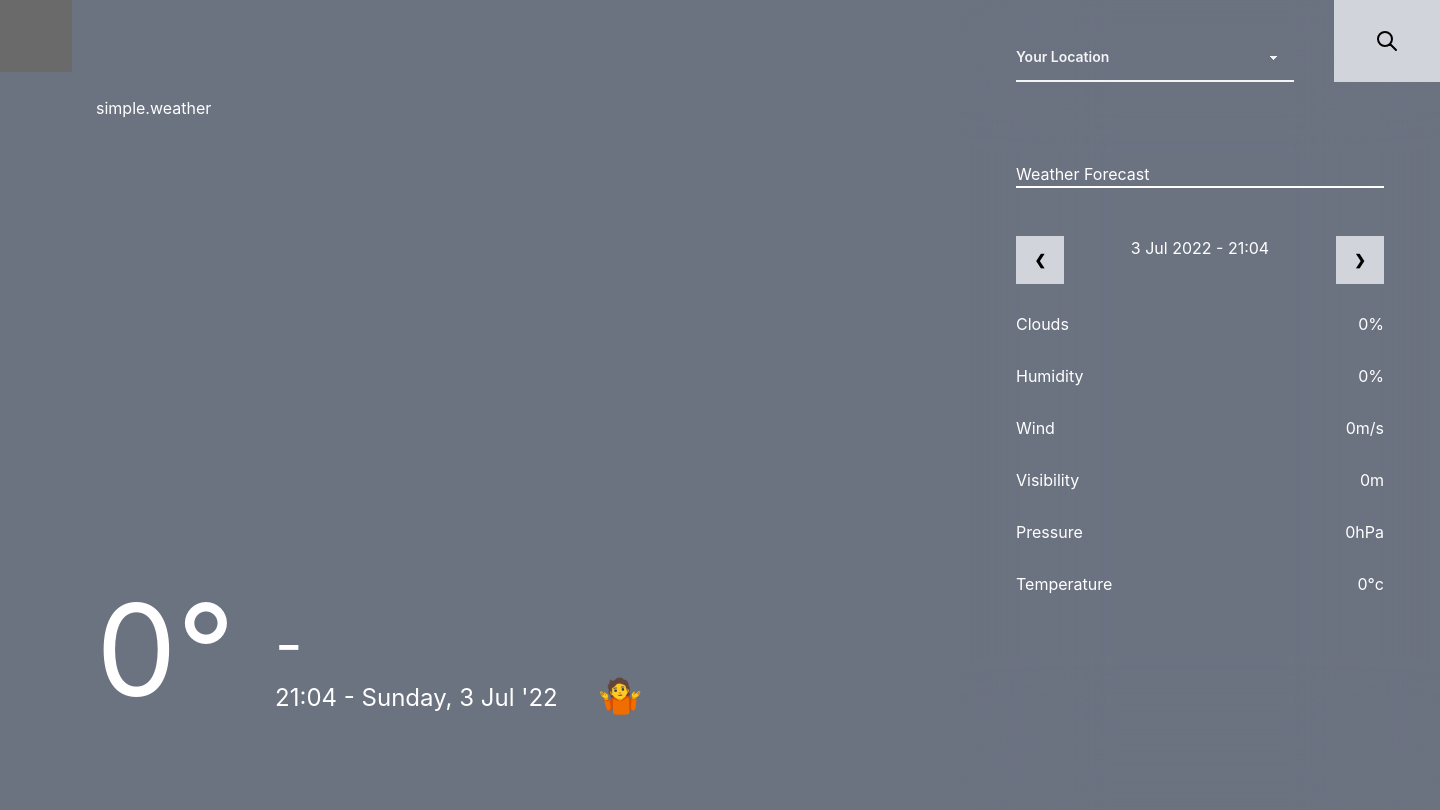
Scenario: Home component test › should show the proper theme based on current weather forecast
Click the button with test id "get-forecast-btn" at [1387, 41], box [1334,0,1439,82]
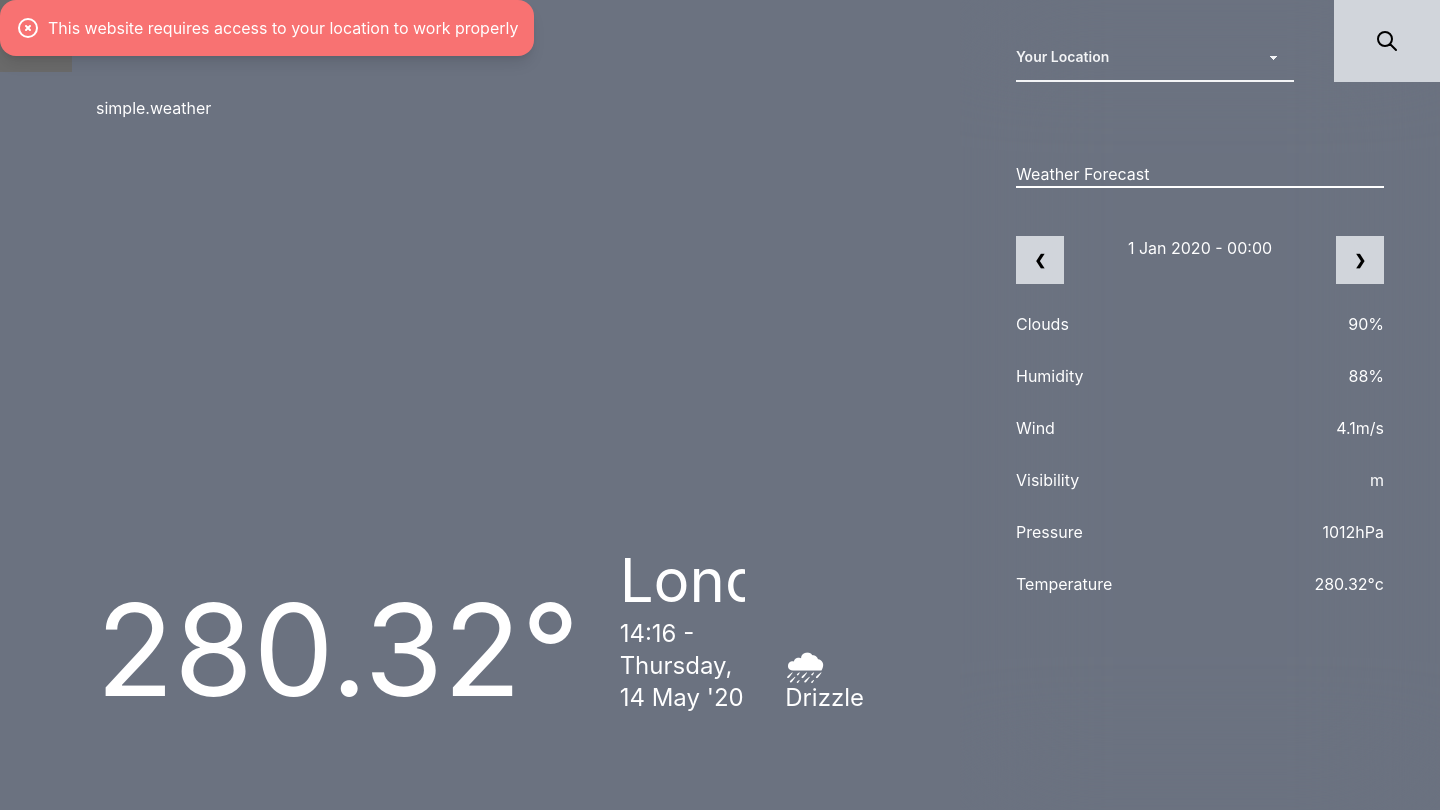
Click the button with test id "get-forecast-btn" at [1387, 41], box [1334,0,1439,82]
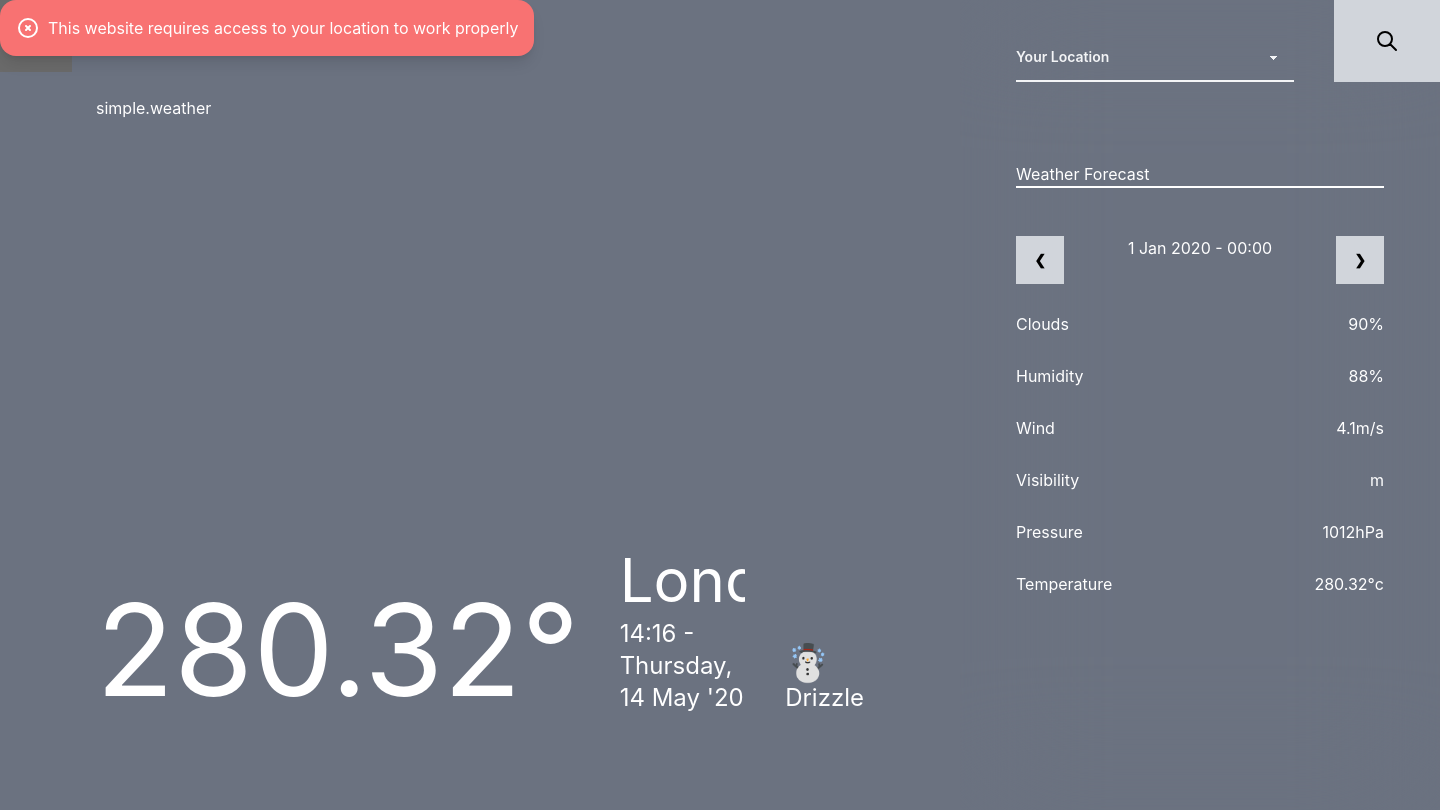
expect the text "☃️" is shown: met, box [785,640,830,684]
Click the button with test id "get-forecast-btn" at [1387, 41], box [1334,0,1439,82]
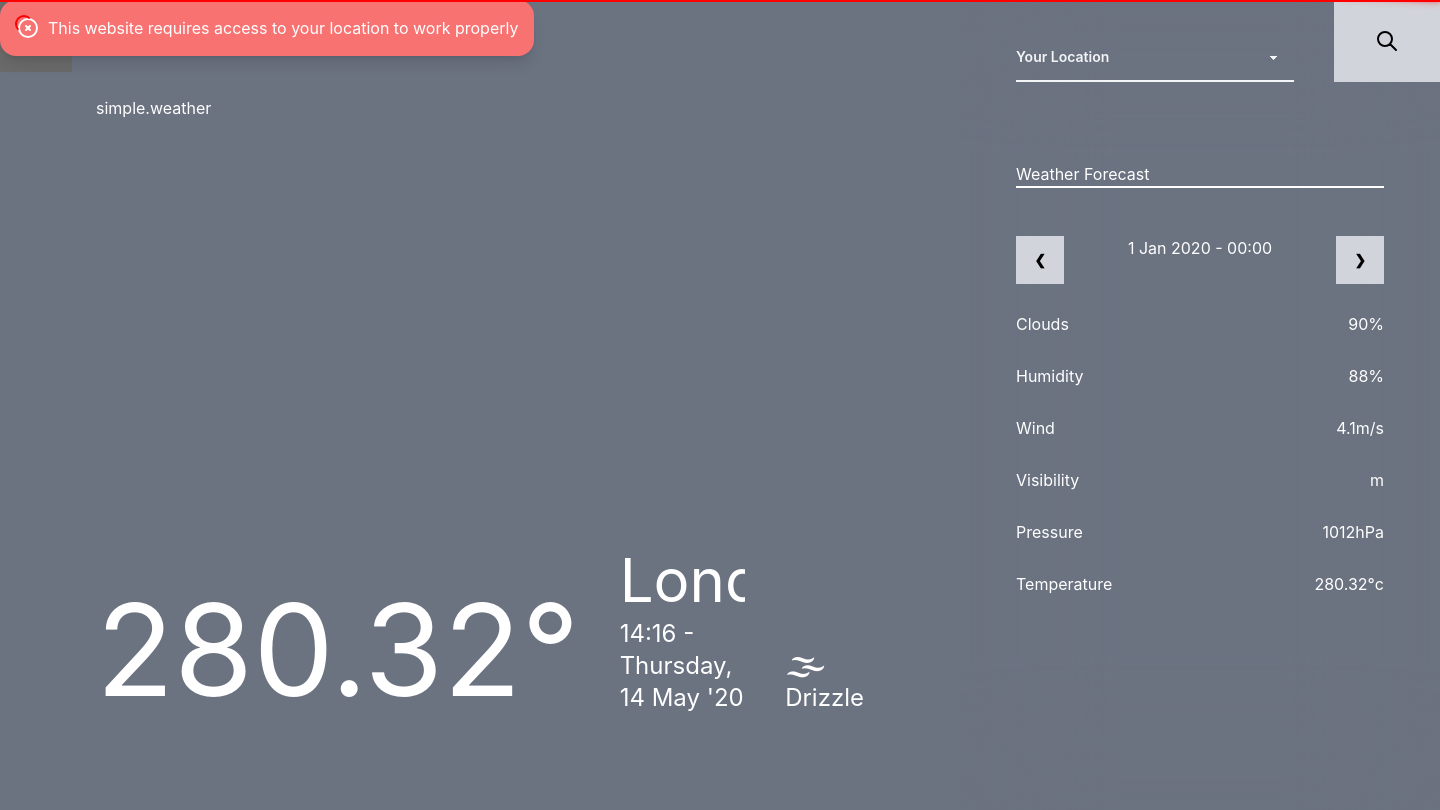
Click the button with test id "get-forecast-btn" at [1387, 41], box [1334,0,1439,82]
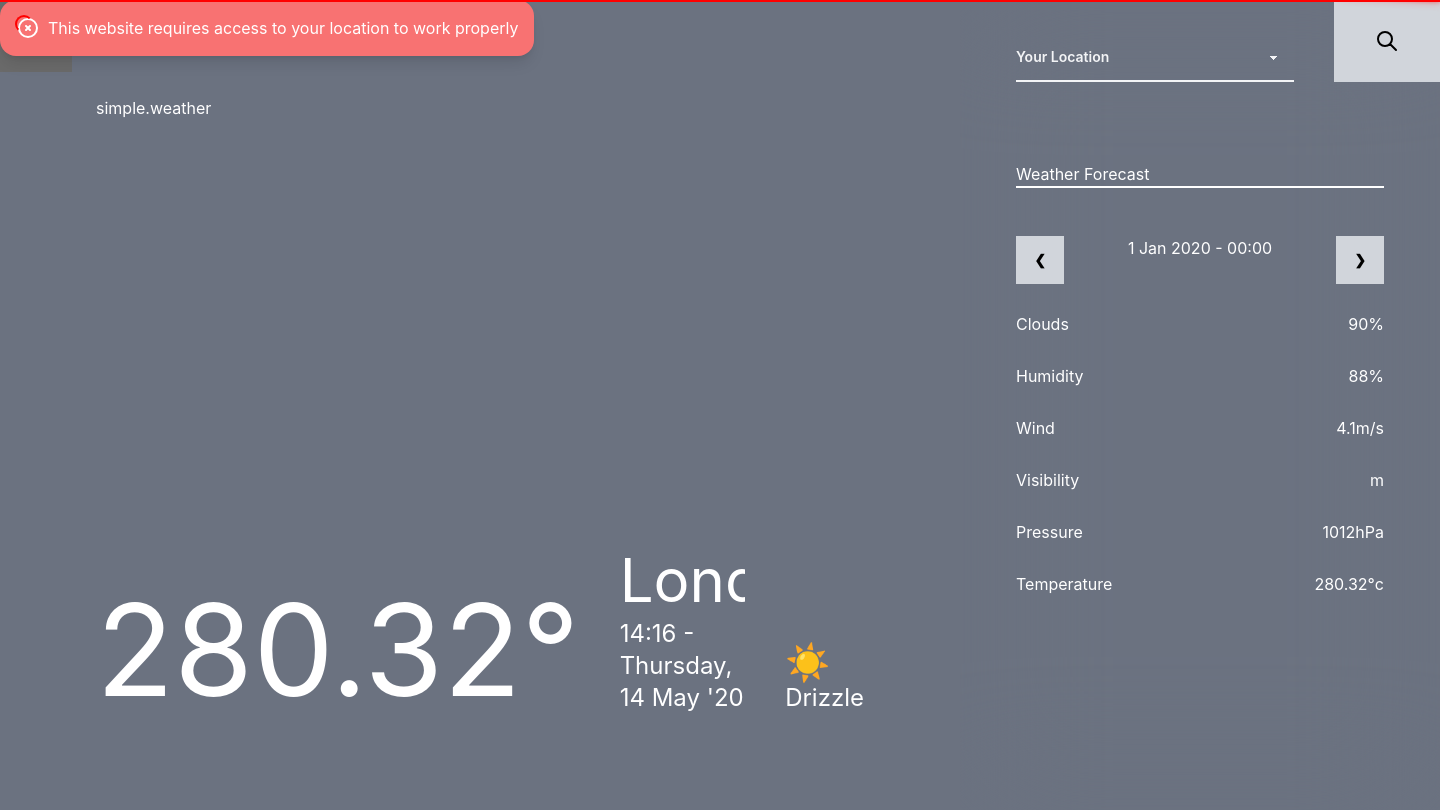
expect the text "☀️" is shown: met, box [785,640,830,684]
Click the button with test id "get-forecast-btn" at [1387, 41], box [1334,0,1439,82]
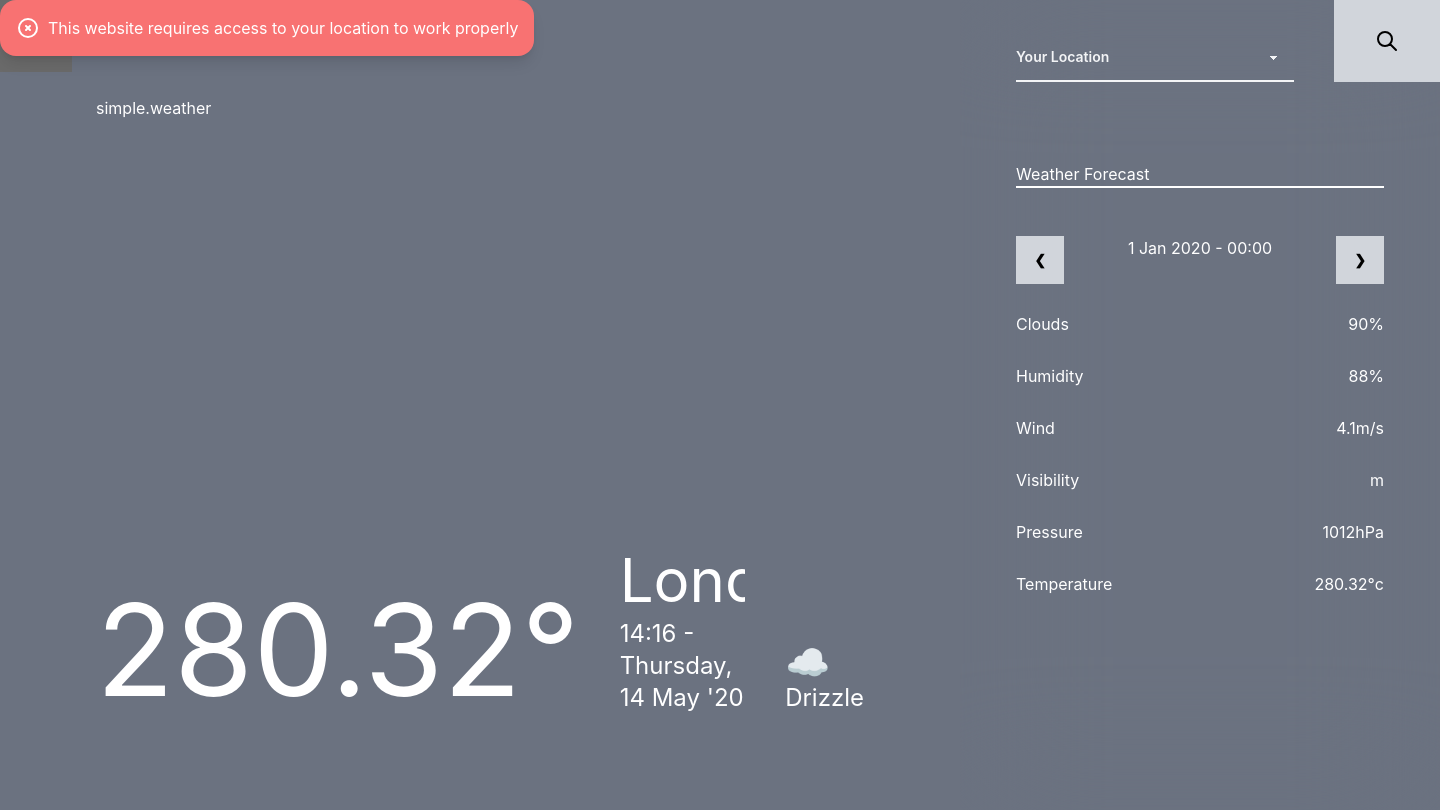
expect the text "☁️" is shown: met, box [785,640,830,684]
